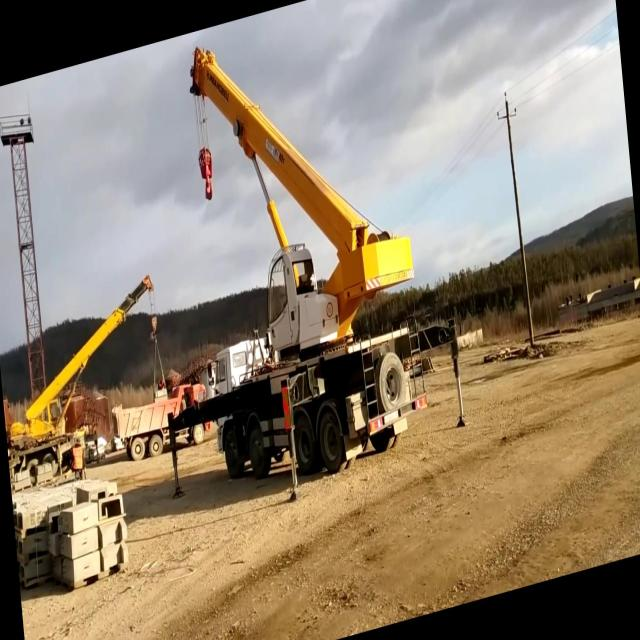crane: (133, 0, 473, 536), (0, 271, 170, 492)
